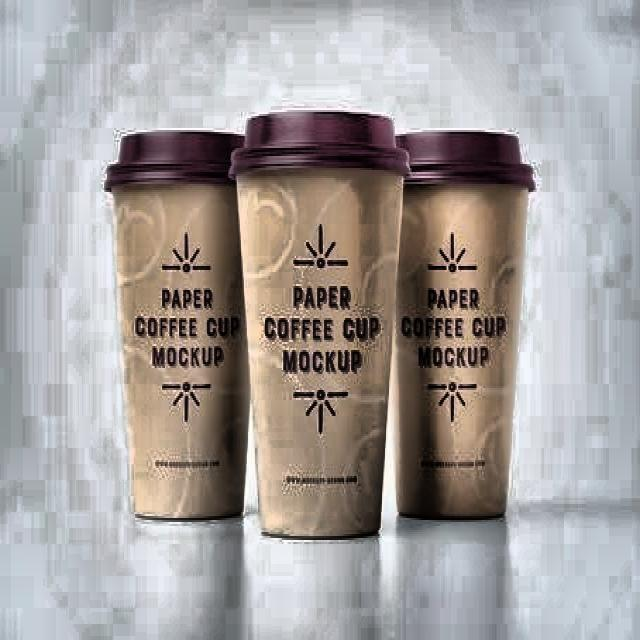Cup: (235, 111, 393, 548), (105, 129, 251, 522), (394, 120, 534, 521)
